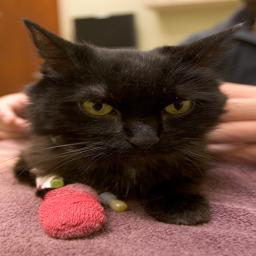catnose: (130, 139, 161, 149)
